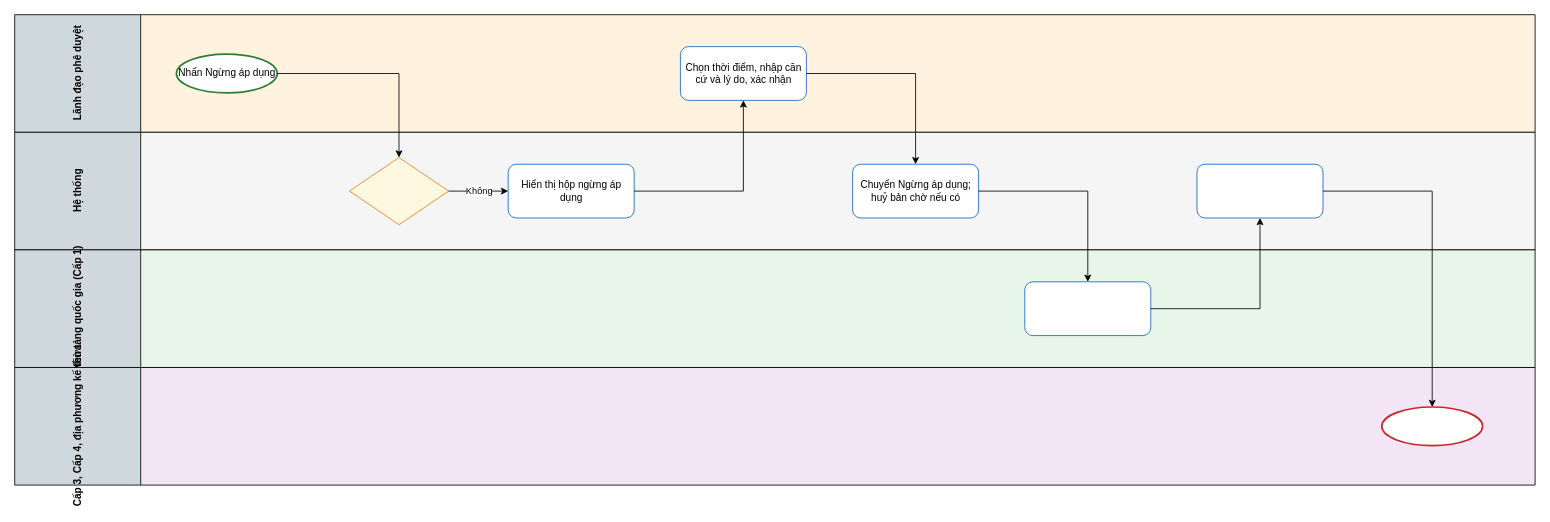
The diagram is 1550 pixels wide and 522 high, and some of its shapes have lost their labels. Here are the shapes that lost their labels. From the top down, the centre of each, then its label:
point (399, 191): Đang trong quy trình đang áp dụng?
point (1259, 190): Gửi thông báo; ghi nhật ký
point (1087, 308): Cập nhật danh mục quốc gia
point (1432, 426): Nhận thông báo ngừng áp dụng
